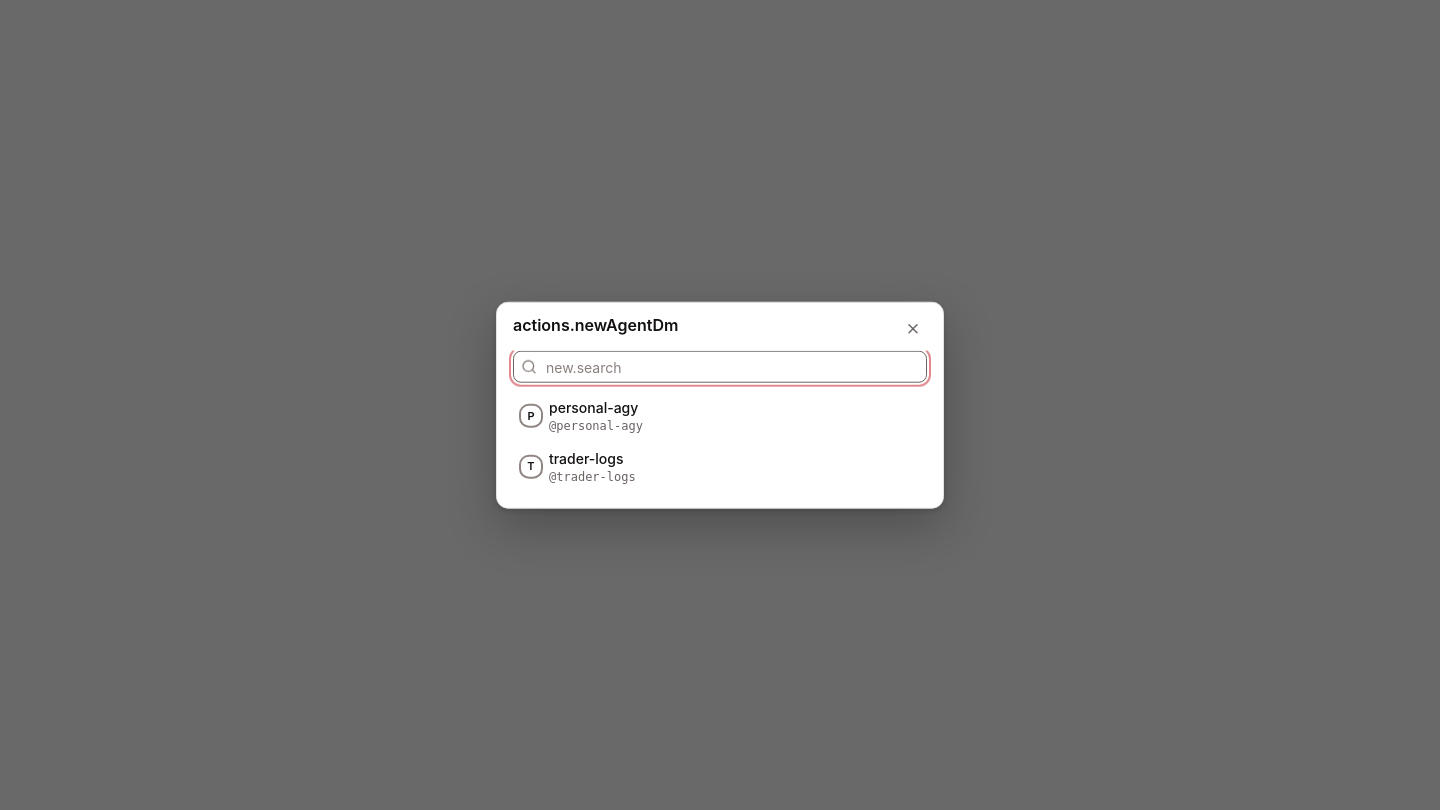
Test case: choosing an agent opens the DM in the new UI
Click the button "T trader-logs @trader-logs" at (586, 458), box [513,442,927,491]
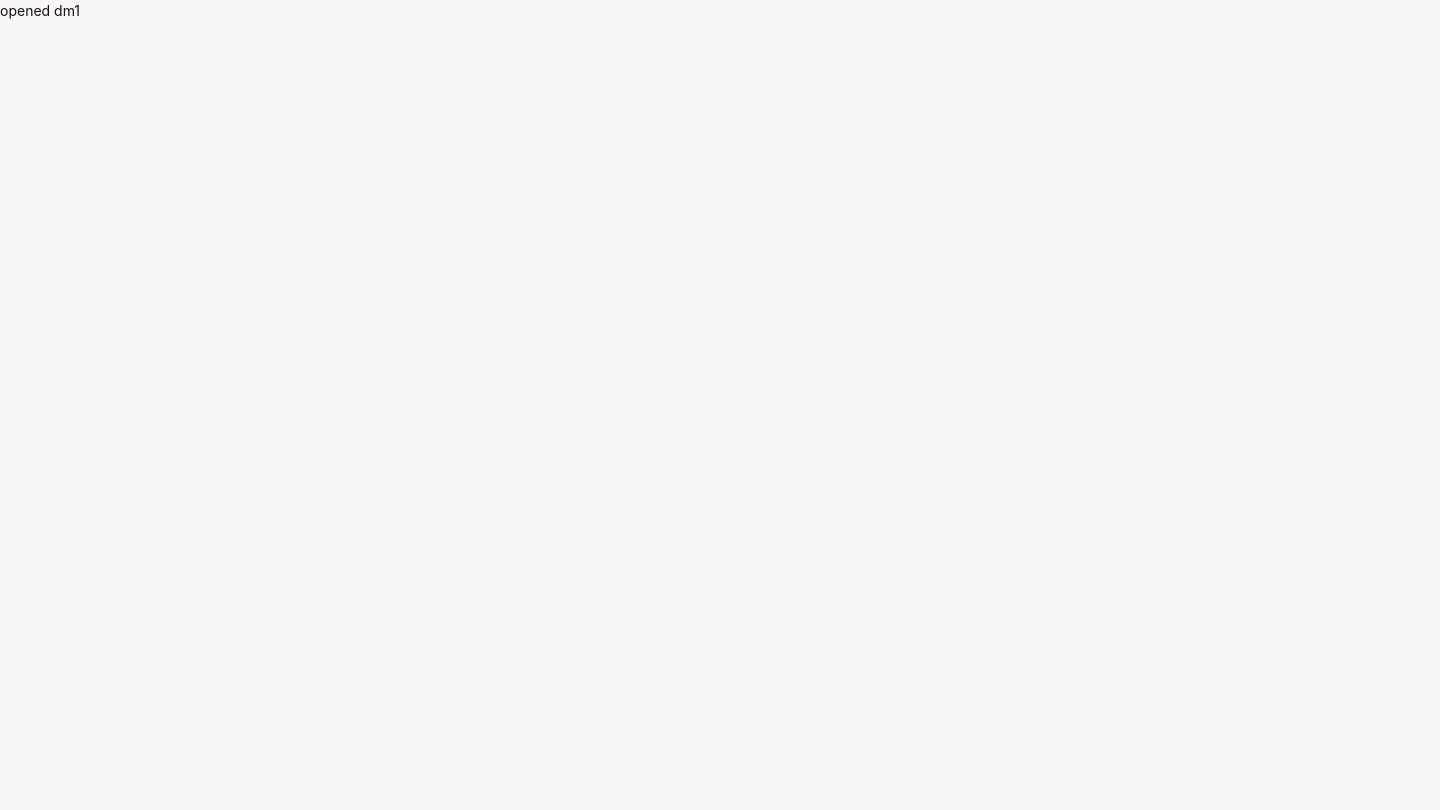
Check: the text "opened dm1" is shown, box [0,2,80,19]
